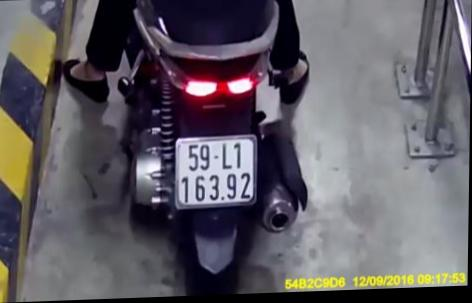LP: (171, 131, 263, 215)
